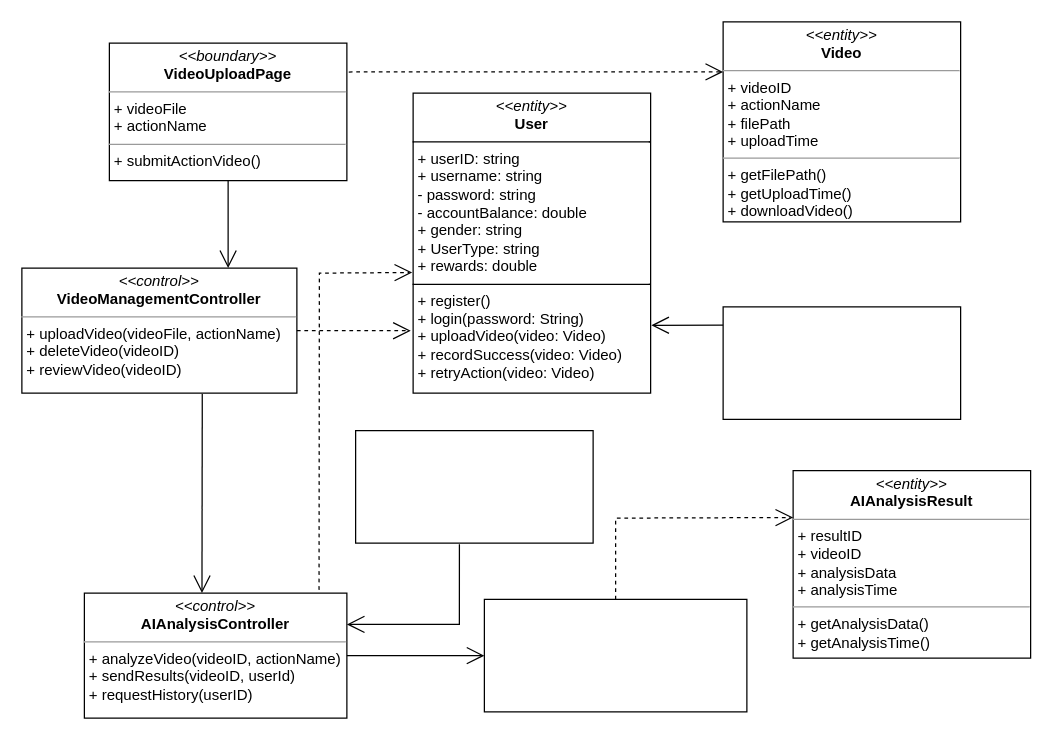
Some shapes in this 1053 by 740 pixel diagram are drawn without their labels. Each missing label, with the centre of its shape:
"<<boundary>> AnalysisResultsPage + resultData + displayResults()" goes at point 473,486.
"<<boundary>> HistoricalResultsPage + historyData + displayHistoryDataResults()" goes at point 841,362.
"<<control>> QwenAPIController + callQwenVL(videoID, actionName) + getResponse()" goes at point 615,655.
